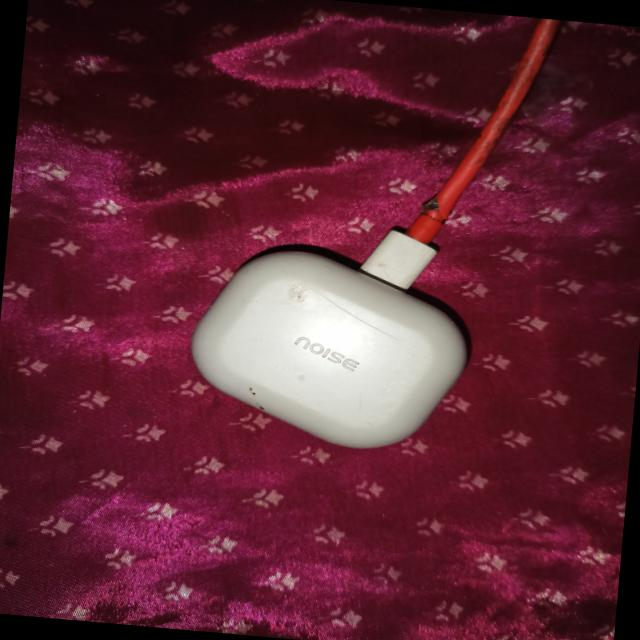plastic_box: (99, 201, 527, 514)
